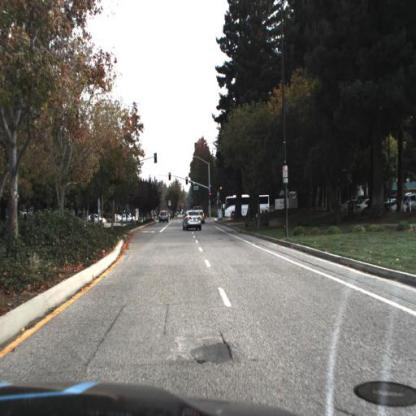car: (183, 211, 202, 233), (353, 197, 371, 214), (120, 215, 137, 227), (161, 212, 169, 225), (202, 209, 207, 225)
pedestrian: (236, 205, 241, 221)
trafficLight-Red: (220, 185, 223, 196), (186, 177, 189, 185)
trafficLight-RedLeft: (169, 172, 172, 183)
truck: (221, 193, 270, 218)
